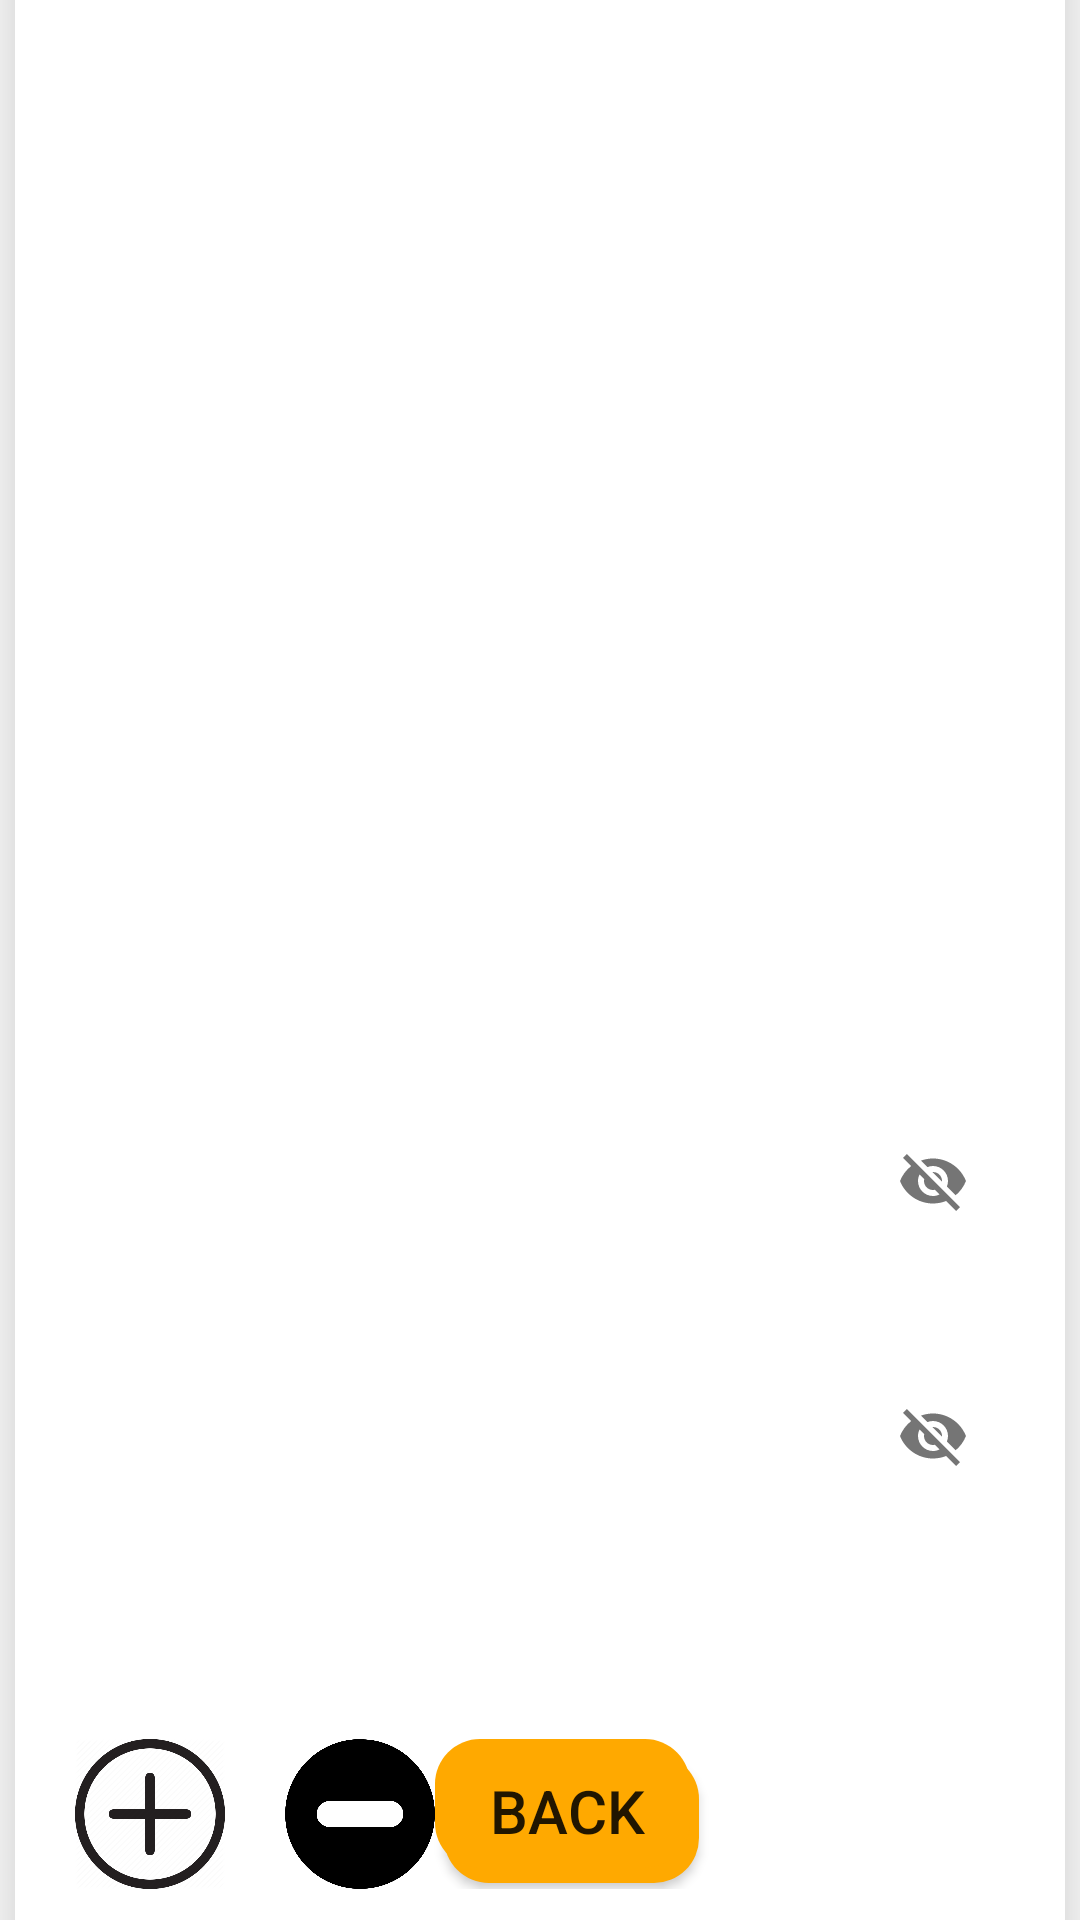

Screen size 1080×1920. Icon name, then its center in pixels as (x,y):
add: (150,1814)
subtract: (360,1814)
